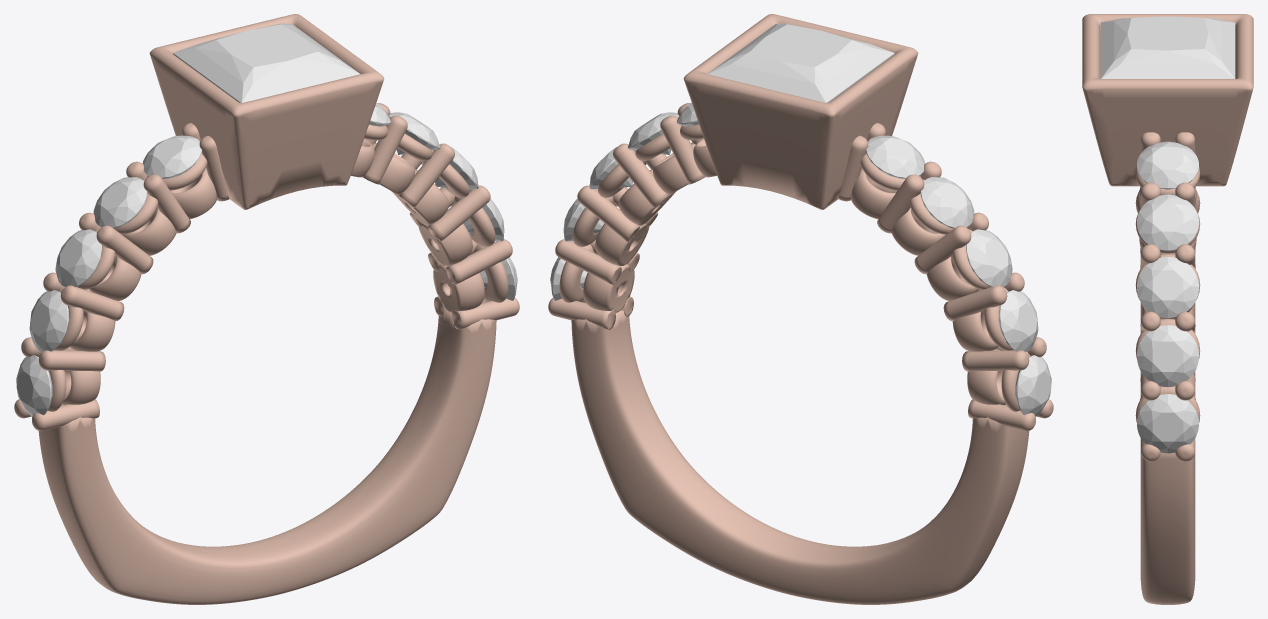
Rendered from diamond-princess-rosegold-bezelset-europeanshank-11stone.glb.
3 views of the same model, side by side, from view 1: azimuth 30°, elevation 25°; view 2: azimuth 150°, elevation 25°; view 3: azimuth 270°, elevation 25° (orthographic).
Visible parts, largest first — view 1: metal, stone, side.002, side.003, side.001, side.004, side, side.006; view 2: metal, stone, side.002, side.003, side.001, side.004, side, side.006; view 3: metal, stone, side.008, side.007, side.009, side.006, side.005.
Part boxes in pixels (x1,y1,x2,y2): metal: [14, 14, 519, 604]; stone: [173, 23, 360, 102]; side.002: [55, 229, 101, 287]; side.003: [93, 177, 147, 228]; side.001: [29, 290, 69, 351]; side.004: [142, 135, 201, 178]; side: [16, 355, 52, 416]; side.006: [389, 112, 439, 154]; metal: [548, 14, 1053, 604]; stone: [707, 23, 894, 102]; side.002: [966, 229, 1012, 287]; side.003: [920, 177, 974, 228]; side.001: [998, 290, 1038, 351]; side.004: [866, 135, 925, 178]; side: [1015, 355, 1051, 416]; side.006: [628, 112, 678, 154]; metal: [1082, 14, 1253, 604]; stone: [1100, 16, 1235, 78]; side.008: [1137, 325, 1198, 387]; side.007: [1137, 257, 1198, 317]; side.009: [1137, 394, 1198, 453]; side.006: [1137, 194, 1198, 250]; side.005: [1137, 141, 1198, 189].
Bounding box in the file's own units: 22.2 × 23.65 × 6.89.
